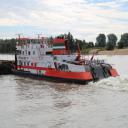tugboat: (11, 34, 122, 88)
